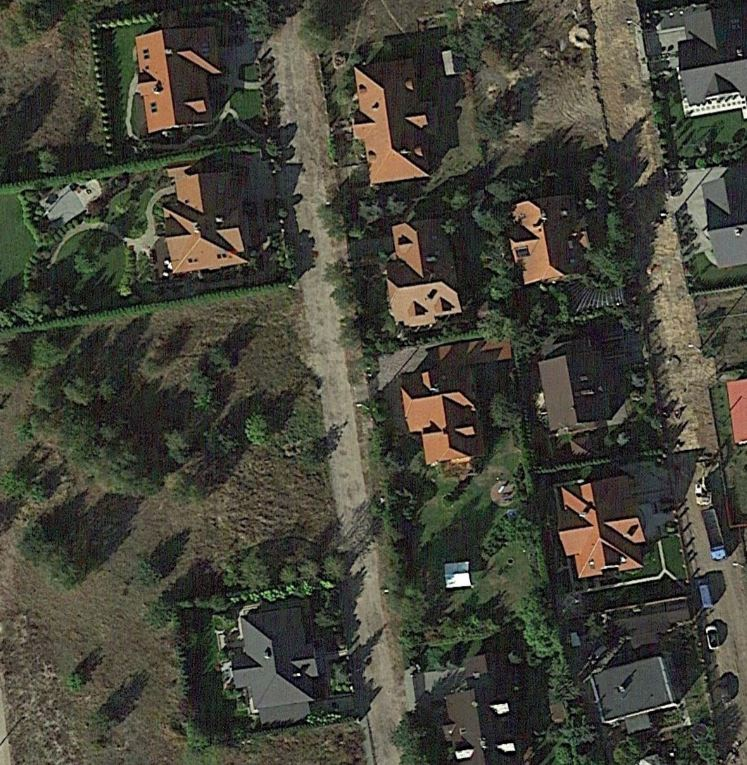family house: (543, 466, 674, 583), (333, 48, 437, 195), (223, 589, 330, 728), (126, 16, 228, 144), (156, 163, 258, 283), (371, 212, 467, 334), (397, 354, 482, 479), (585, 649, 680, 742), (528, 339, 608, 440), (510, 195, 591, 294), (437, 681, 531, 765)
